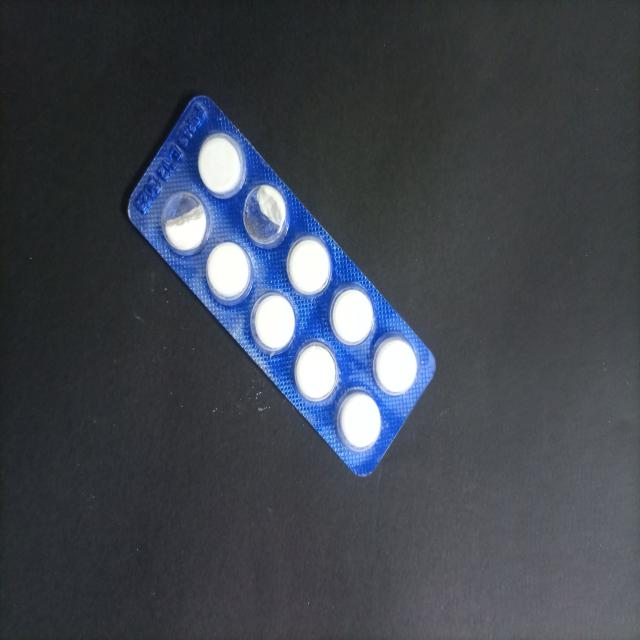defect: (160, 188, 209, 258), (242, 182, 290, 249)
